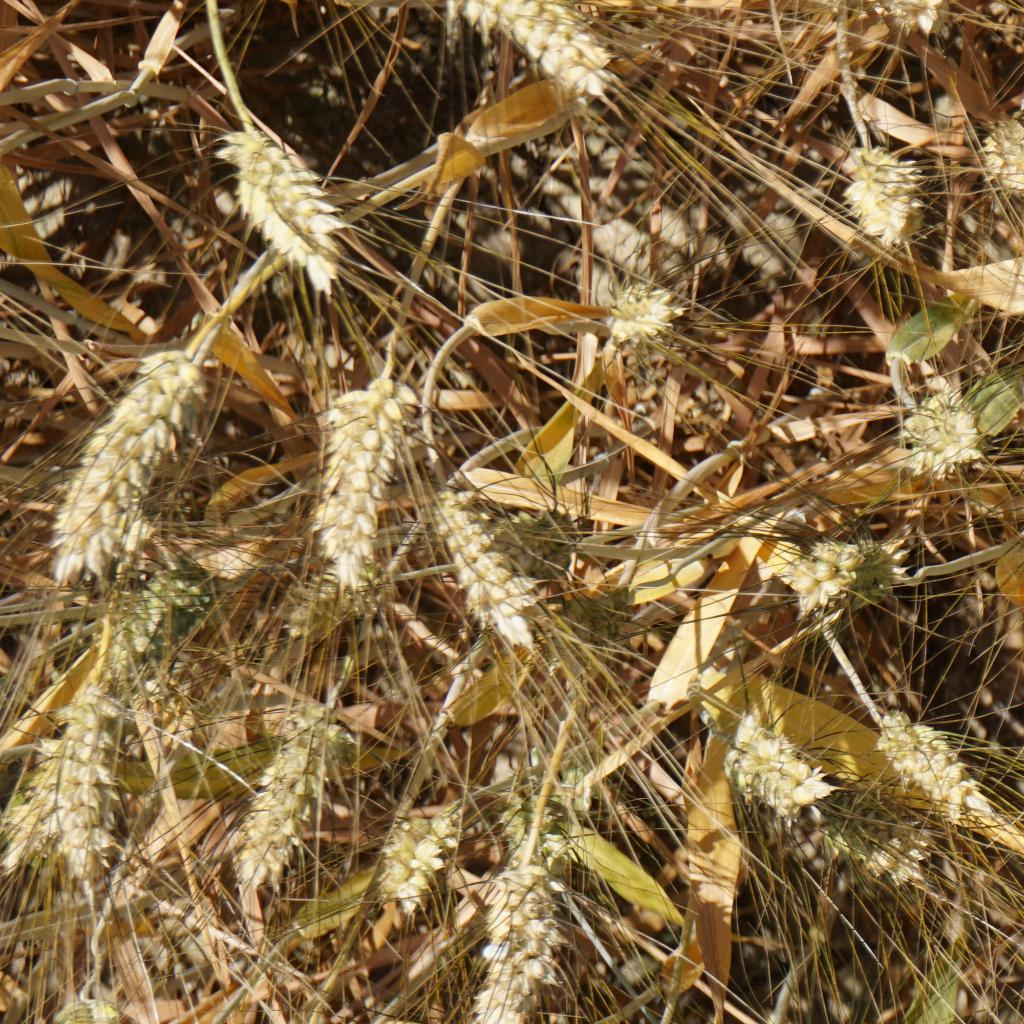0-0: (43, 350, 195, 535), (220, 707, 326, 884), (43, 677, 141, 866), (224, 128, 342, 275), (441, 0, 616, 96), (460, 874, 570, 1024), (872, 705, 1000, 825), (318, 381, 397, 572), (431, 486, 537, 626), (795, 789, 940, 891), (732, 712, 858, 828), (888, 366, 992, 478), (765, 519, 902, 602), (92, 559, 193, 665), (838, 139, 933, 244), (598, 258, 687, 346), (376, 813, 444, 911), (49, 973, 134, 1024), (976, 121, 1024, 200), (874, 0, 947, 29)
